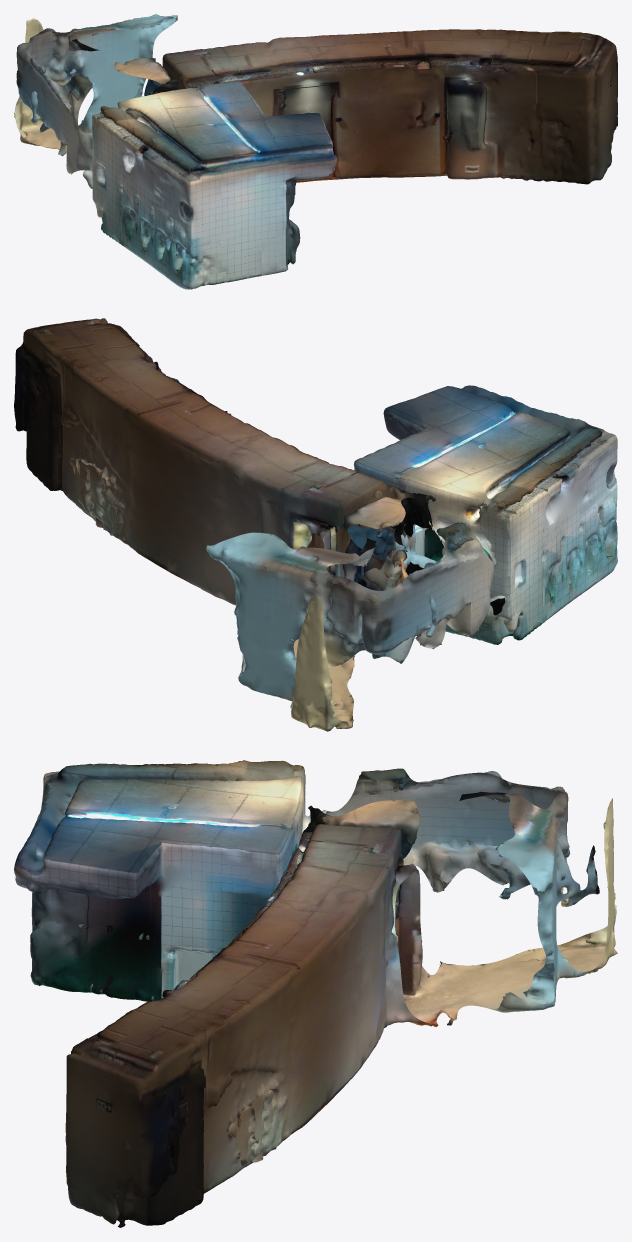
Rendered from break_world.obj.
3 views of the same model, one above another, from view 1: azimuth 30°, elevation 25°; view 2: azimuth 150°, elevation 25°; view 3: azimuth 270°, elevation 25° (orthographic). The views are drawn at different scales.
Parts seen in each view (by area): view 1: unnamed_n3d, unnamed_n3d3, unnamed_n3d2, unnamed_n3d4; view 2: unnamed_n3d3, unnamed_n3d2, unnamed_n3d, unnamed_n3d4; view 3: unnamed_n3d3, unnamed_n3d, unnamed_n3d2, unnamed_n3d4.
Boxes of the visible parts, <box> form: unnamed_n3d: <box>17,23,617,289</box>; unnamed_n3d3: <box>42,14,603,282</box>; unnamed_n3d2: <box>20,16,617,278</box>; unnamed_n3d4: <box>14,19,617,289</box>; unnamed_n3d3: <box>21,319,617,711</box>; unnamed_n3d2: <box>21,322,617,730</box>; unnamed_n3d: <box>19,318,617,676</box>; unnamed_n3d4: <box>14,344,617,731</box>; unnamed_n3d3: <box>16,760,596,1225</box>; unnamed_n3d: <box>30,764,599,1227</box>; unnamed_n3d2: <box>30,763,617,1227</box>; unnamed_n3d4: <box>14,761,616,1227</box>.
Size of the model in its own units: 1102 by 284 by 882.
